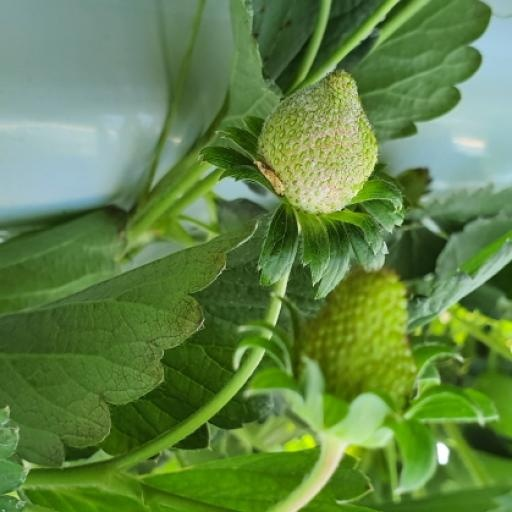Powdery Mildew Fruit: (258, 292, 378, 443)
